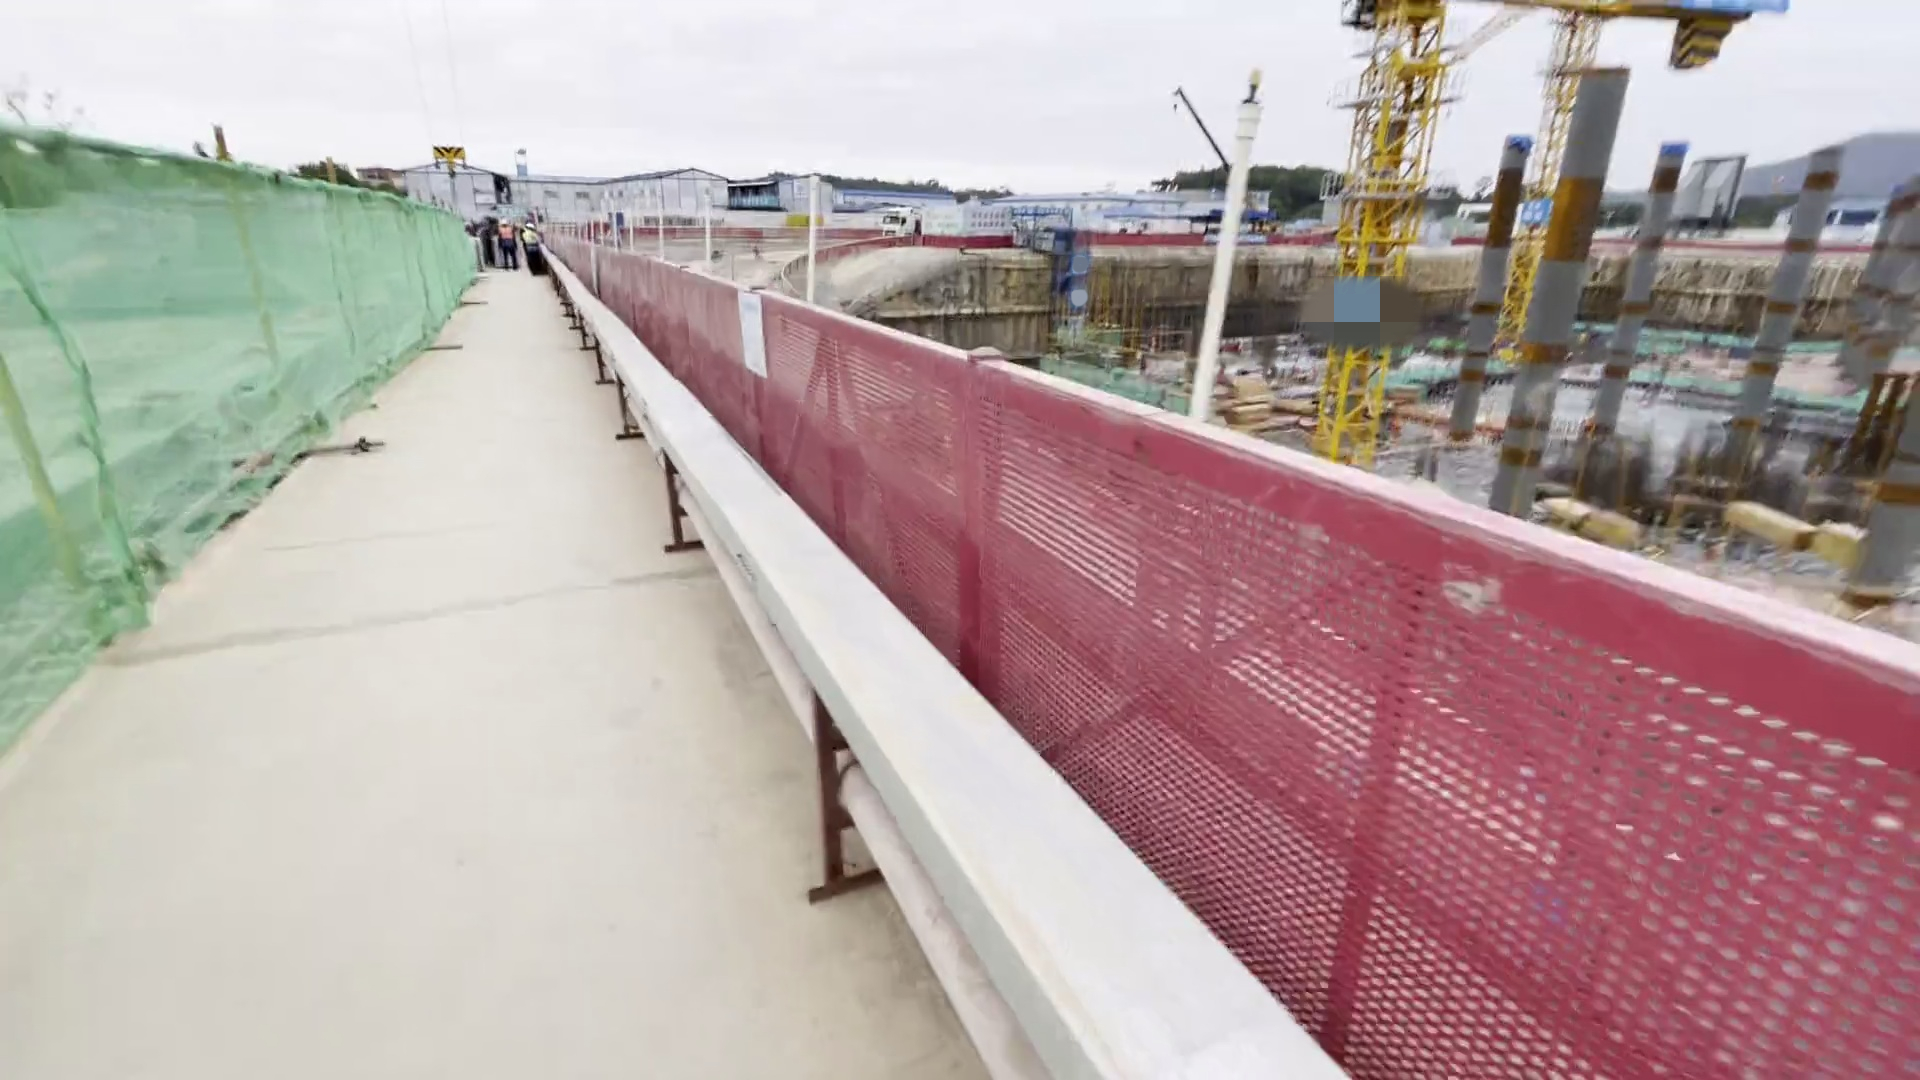helmet: (524, 214, 538, 230), (498, 210, 512, 224)
person: (516, 210, 552, 282), (491, 210, 517, 275)
vest: (495, 226, 522, 256), (518, 233, 542, 261)
